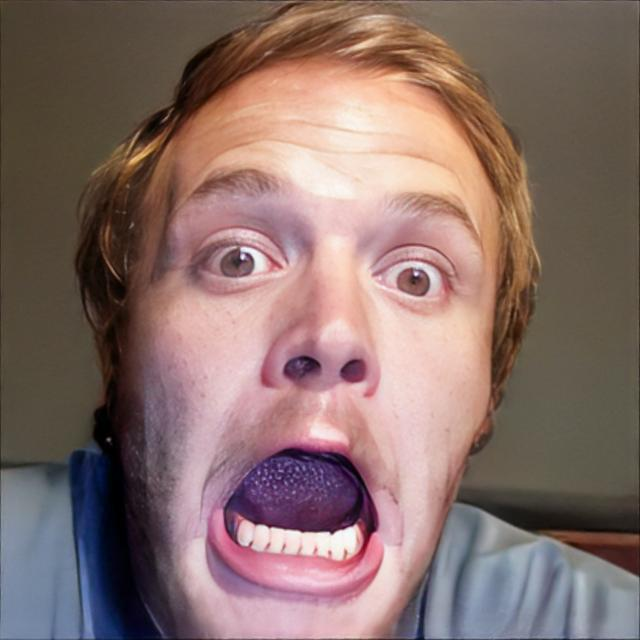Fear: (121, 53, 498, 640)
